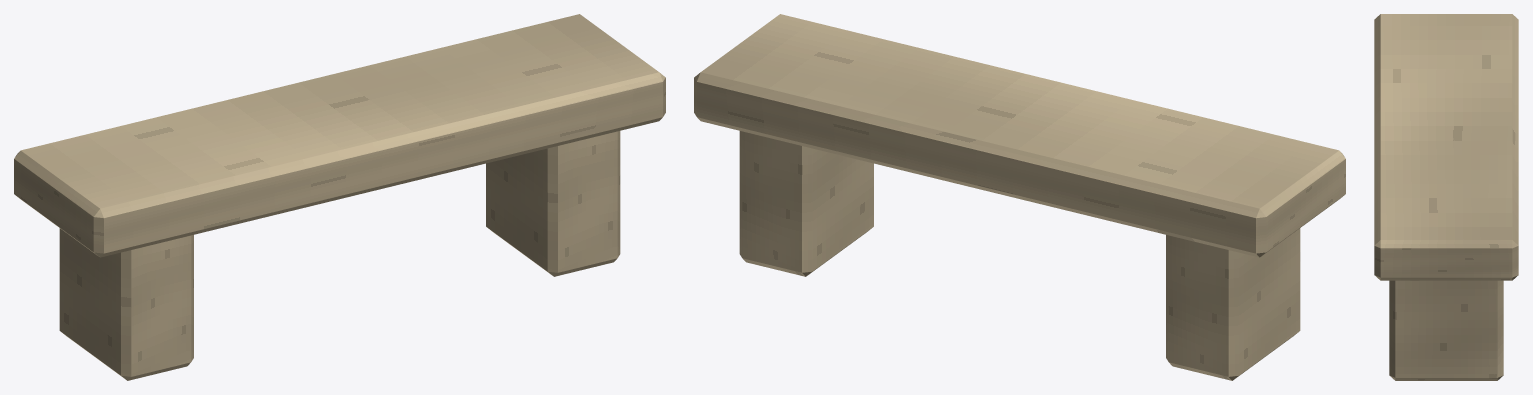
File: StoneBench.glb
3 renders of one model, left to right at view 1: azimuth 30°, elevation 25°; view 2: azimuth 150°, elevation 25°; view 3: azimuth 270°, elevation 25°, orthographic. The views are drawn at different scales.
Parts seen in each view (by area): view 1: Seat, Leg-0.82, Leg0.82; view 2: Seat, Leg-0.82, Leg0.82; view 3: Seat, Leg0.82.
Part boxes in pixels (<box>): Seat: <box>14,14,665,257</box>; Leg-0.82: <box>59,228,193,380</box>; Leg0.82: <box>486,131,620,276</box>; Seat: <box>694,14,1345,257</box>; Leg-0.82: <box>1166,228,1300,380</box>; Leg0.82: <box>739,131,873,276</box>; Seat: <box>1374,14,1518,280</box>; Leg0.82: <box>1389,280,1503,380</box>.
Bounding box in the file's own units: 2.2 × 0.69 × 0.58.
Materials: 1 (1 with a texture image).
